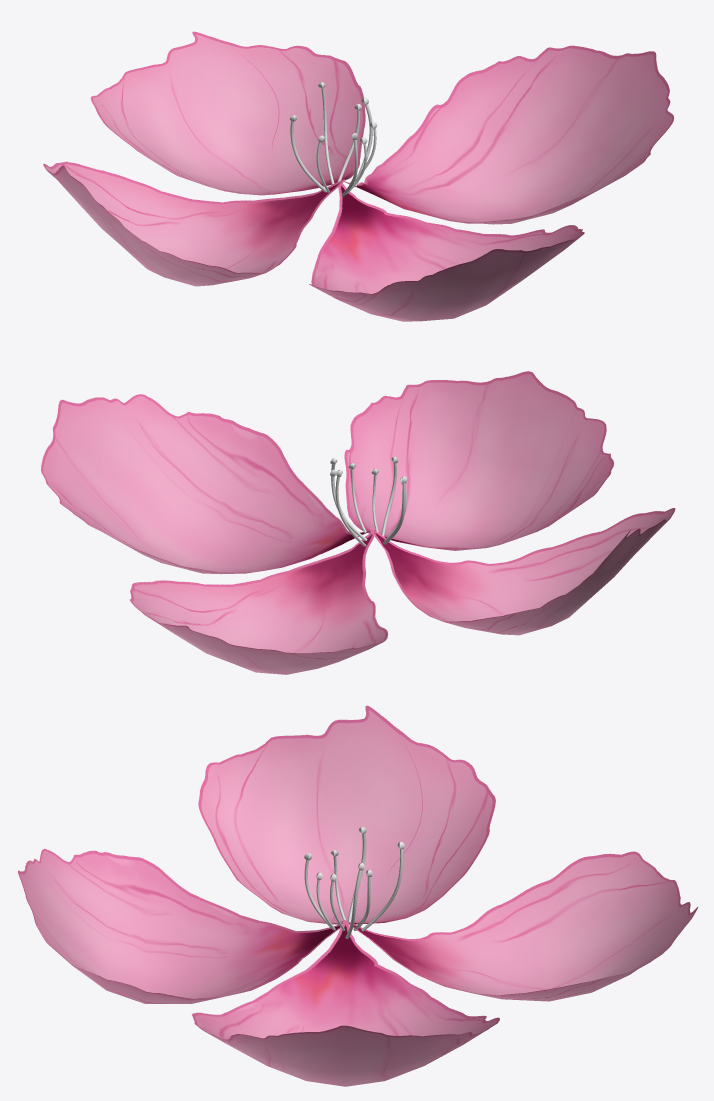
File: Sakura.fbx
3 views of the same model, one above another, from view 1: azimuth 30°, elevation 25°; view 2: azimuth 150°, elevation 25°; view 3: azimuth 270°, elevation 25° (orthographic). The views are drawn at different scales.
Parts seen in each view (by area): view 1: SakuraBlossom, seed; view 2: SakuraBlossom, seed; view 3: SakuraBlossom, seed.
Boxes of the visible parts, x1,y1,x2,y2 form: SakuraBlossom: [43, 31, 673, 321]; seed: [290, 82, 377, 196]; SakuraBlossom: [41, 371, 675, 674]; seed: [330, 456, 407, 546]; SakuraBlossom: [18, 705, 698, 1086]; seed: [304, 826, 404, 938].
Size of the model in its own units: 159 by 37.95 by 152.
Materials: 4 (2 with a texture image).
